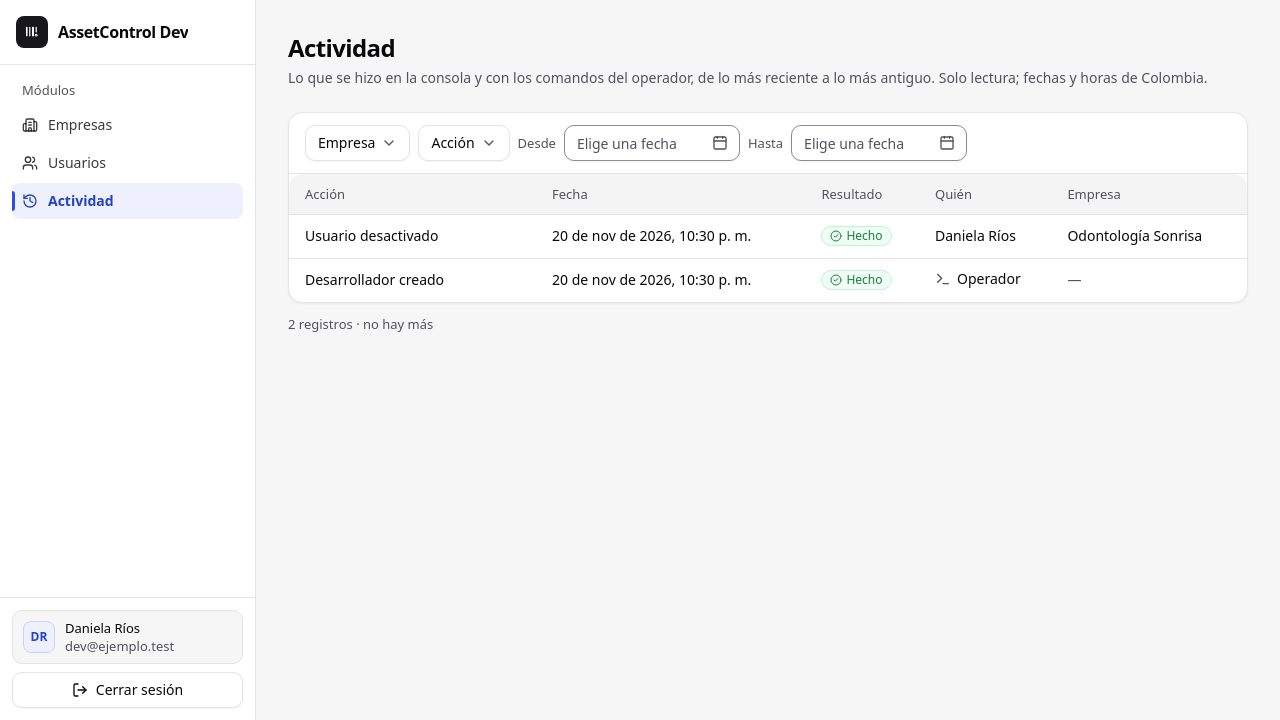
filtros (R32; A18) › la lista de acciones es la cerrada de R33 más las tres de C1 y la de C1b, en español
Click the button "Acción" at (464,143), box [418,125,510,161]
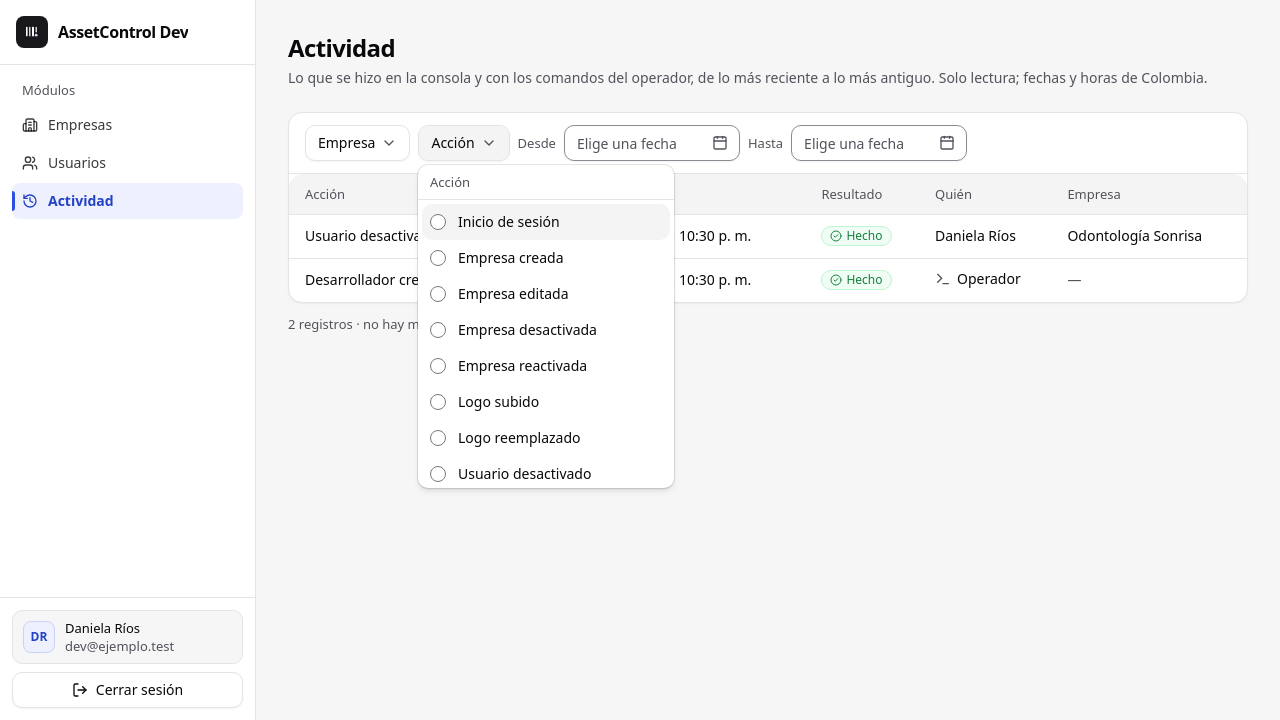
Now the radio button labelled "Empresa editada" is shown, box [430,286,446,302]
Now the radio button labelled "Logo reemplazado" is shown, box [430,430,446,446]
